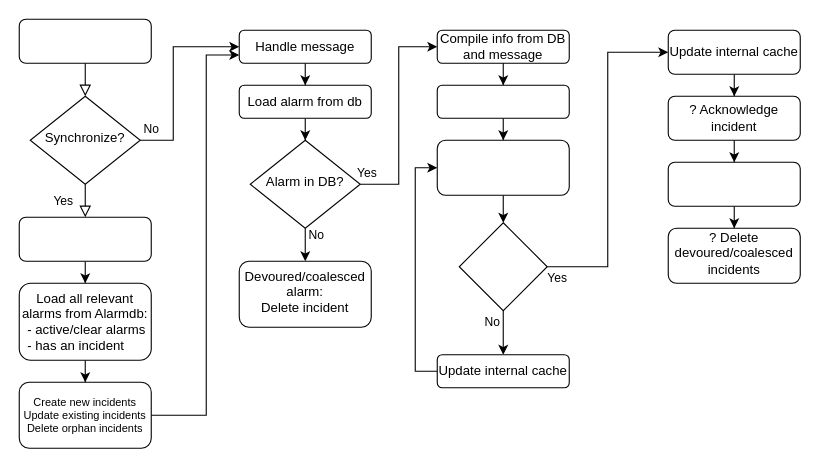
Some shapes in this 820 by 468 pixel diagram are drawn without their labels. The shapes that lost their labels are listed below. From the top down, each one's centre as x and y in pixels, then its label:
the point at 84,40: New Message
the point at 502,101: Get incident from internal cache
the point at 502,167: Create incident / Update existing incident
the point at 733,183: ? Close incident
the point at 84,238: Load all incidents from Geant Argus
the point at 502,266: Success?
